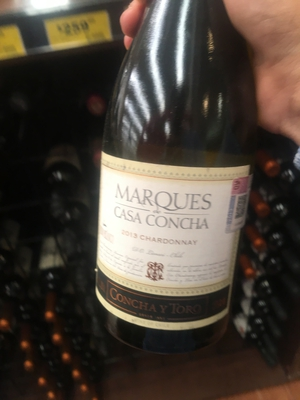marques de casa concha chardonnay: (80, 13, 269, 355)
